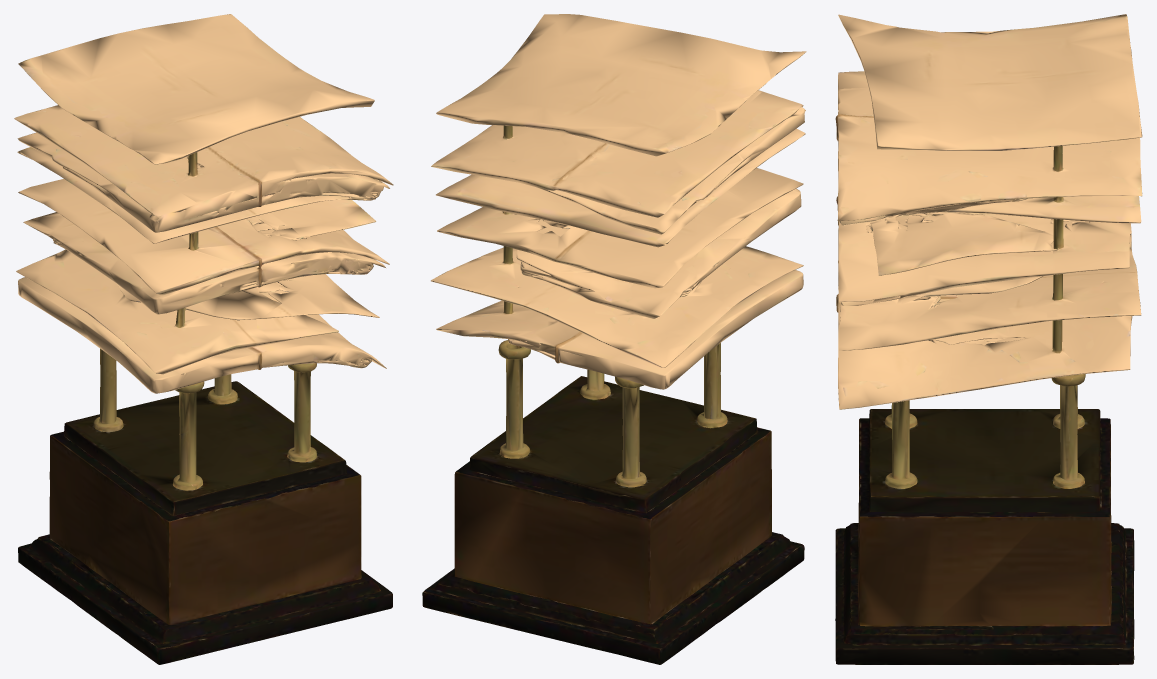
Rendered from trophy-docdiff-v2-perf.glb.
3 renders of one model, left to right at view 1: azimuth 30°, elevation 25°; view 2: azimuth 150°, elevation 25°; view 3: azimuth 270°, elevation 25°, orthographic. The views are drawn at different scales.
Visible parts, largest first — view 1: world; view 2: world; view 3: world.
Part boxes in pixels (<box>): world: <box>14,14,393,664</box>; world: <box>422,14,806,664</box>; world: <box>835,14,1142,664</box>.
Bounding box in the file's own units: 0.5006 × 1 × 0.523.
Materials: 1 (1 with a texture image).
